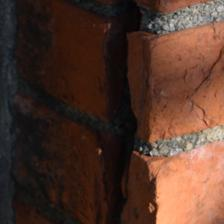Crack: (46, 5, 98, 216)
